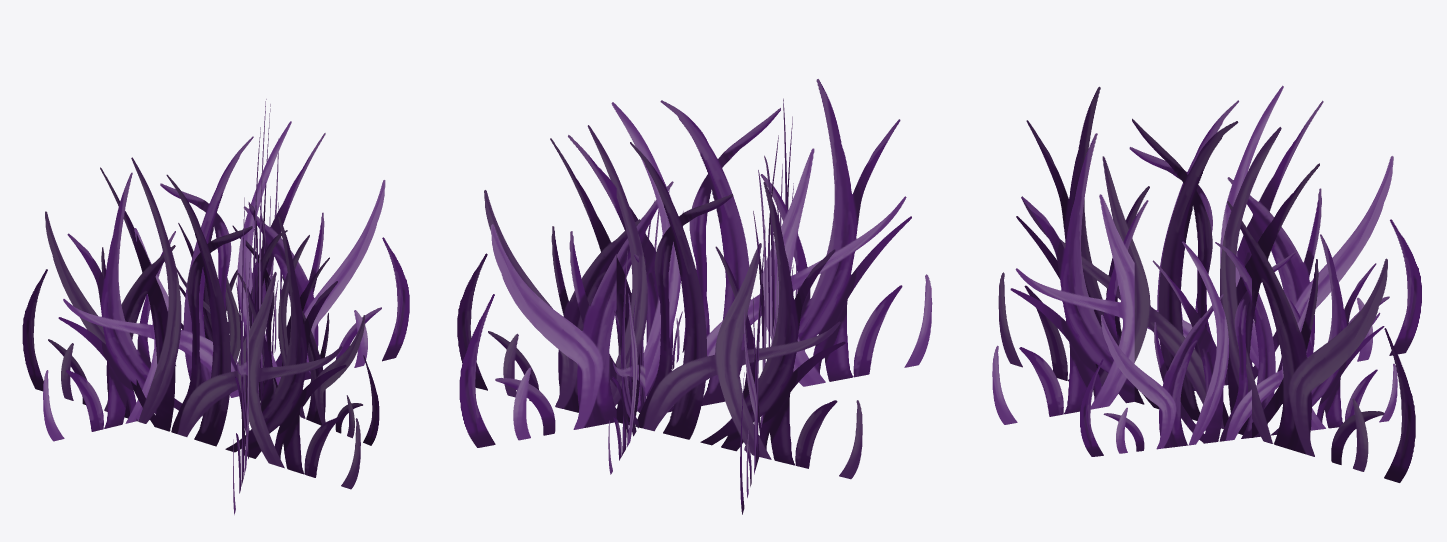
Rendered from Grass.fbx.
3 views of the same model, side by side, from view 1: azimuth 30°, elevation 25°; view 2: azimuth 150°, elevation 25°; view 3: azimuth 270°, elevation 25° (orthographic). The views are drawn at different scales.
Parts seen in each view (by area): view 1: Plane.001; view 2: Plane.001; view 3: Plane.001.
Part boxes in pixels (left/top/right/bottom): Plane.001: left=22, top=99, right=409, bottom=514; Plane.001: left=457, top=79, right=932, bottom=514; Plane.001: left=992, top=85, right=1421, bottom=482.
Bounding box in the file's own units: 294 × 221 × 271.
